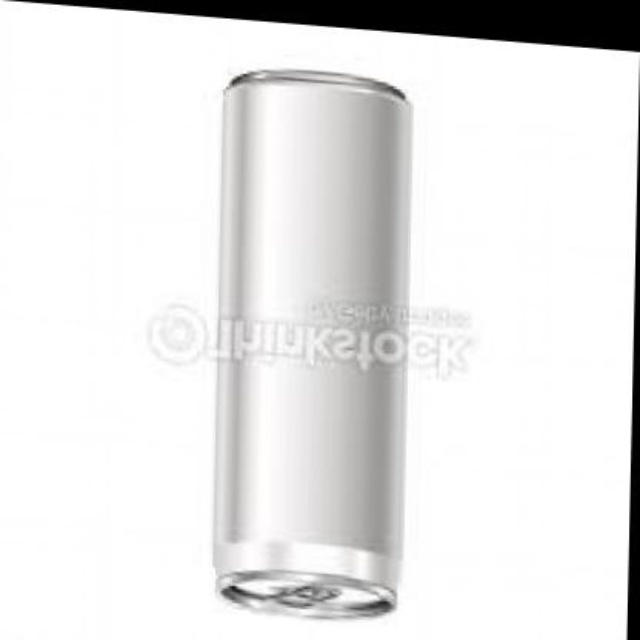trash: (214, 71, 411, 617)
